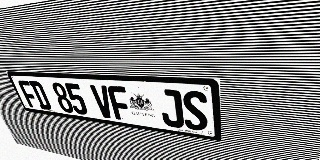5: (64, 83, 89, 115)
8: (50, 82, 75, 113)
D: (28, 81, 53, 110)
F: (107, 86, 133, 121), (17, 80, 41, 109)
J: (158, 89, 185, 129)
S: (181, 90, 208, 132)
V: (89, 85, 115, 119)
